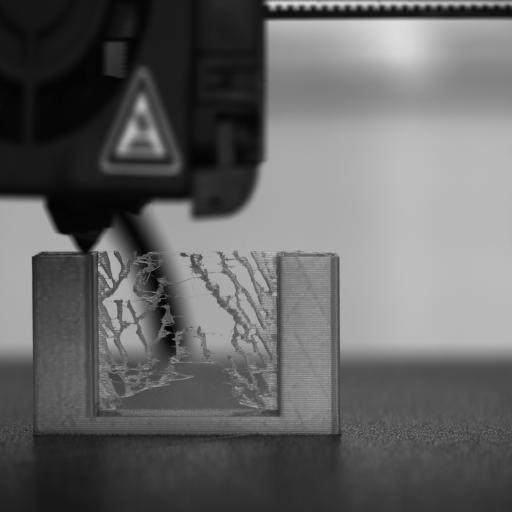spaghetti_and_stringing: (96, 248, 277, 408)
